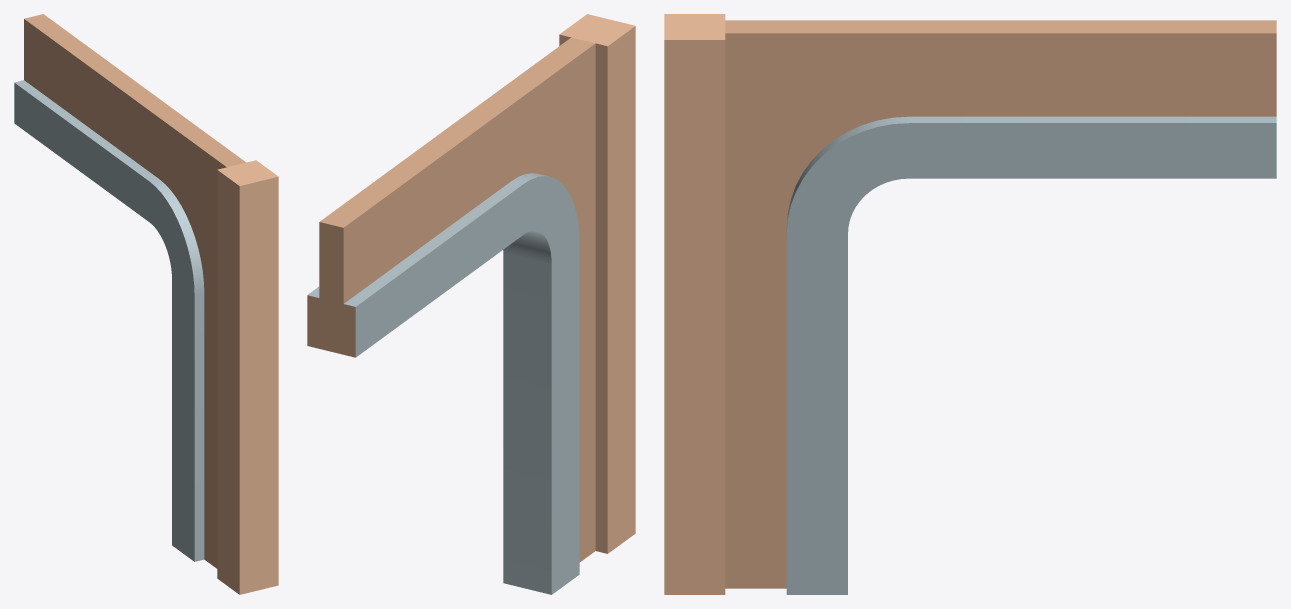
The model's file is wallWoodDoorwaySquareWideCurved.glb.
3 views of the same model, side by side, from view 1: azimuth 30°, elevation 25°; view 2: azimuth 150°, elevation 25°; view 3: azimuth 270°, elevation 25° (orthographic). The views are drawn at different scales.
Parts seen in each view (by area): view 1: wallWoodDoorwaySquareWideCurved; view 2: wallWoodDoorwaySquareWideCurved; view 3: wallWoodDoorwaySquareWideCurved.
Boxes of the visible parts, <box> form: wallWoodDoorwaySquareWideCurved: <box>14,14,278,594</box>; wallWoodDoorwaySquareWideCurved: <box>307,14,635,594</box>; wallWoodDoorwaySquareWideCurved: <box>664,14,1276,594</box>.
Size of the model in its own units: 0.1 by 1 by 1.
